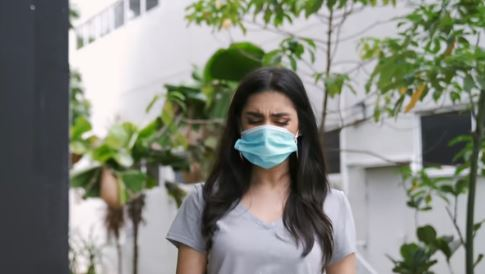with_mask: (241, 111, 298, 153)
